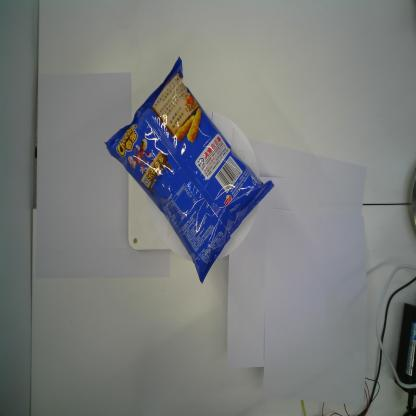Puffed Food: (103, 55, 276, 287)
